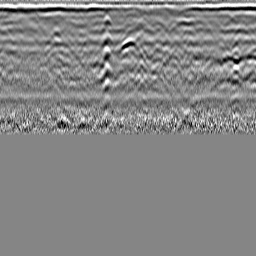cavity: (117, 36, 139, 56)
